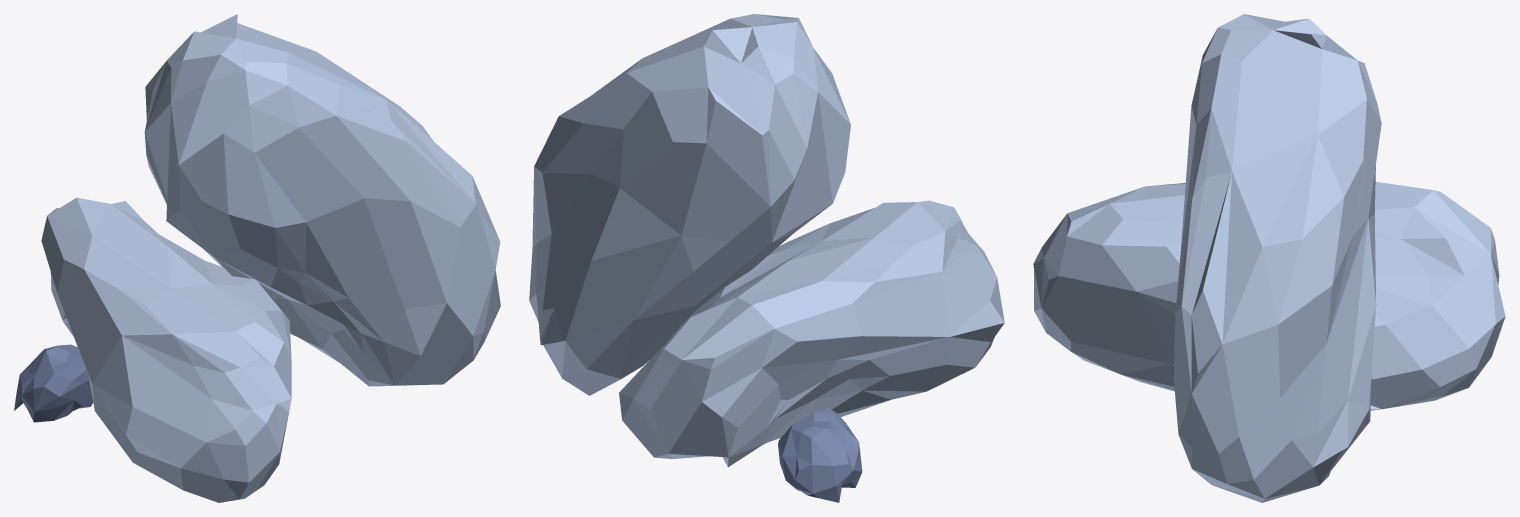
Rendered from Rock2.fbx.
The picture shows the model from 3 angles, left to right: view 1: azimuth 30°, elevation 25°; view 2: azimuth 150°, elevation 25°; view 3: azimuth 270°, elevation 25°; orthographic projection.
Visible parts, largest first — view 1: Rock2.001, Rock2, Rock2.002; view 2: Rock2.001, Rock2, Rock2.002; view 3: Rock2.001, Rock2.
Part boxes in pixels (bbox=[...]): Rock2.001: bbox=[144, 14, 500, 386]; Rock2: bbox=[41, 197, 291, 502]; Rock2.002: bbox=[14, 344, 93, 422]; Rock2.001: bbox=[529, 14, 850, 395]; Rock2: bbox=[619, 200, 1004, 467]; Rock2.002: bbox=[778, 408, 862, 502]; Rock2.001: bbox=[1173, 14, 1381, 502]; Rock2: bbox=[1033, 182, 1505, 410].
Size of the model in its own units: 198 by 203 by 182.
